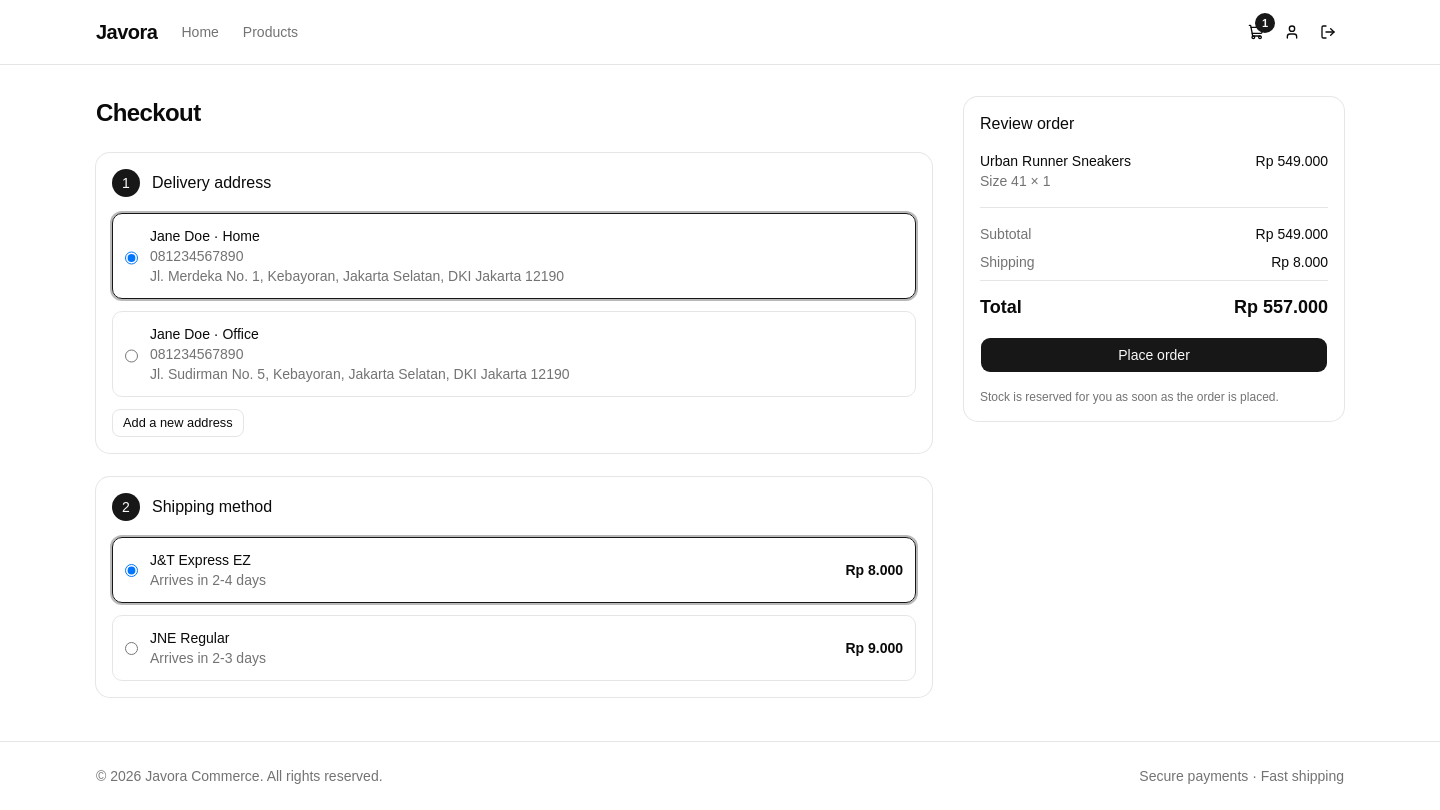
checkout › uses the default address and cheapest shipping, then places the order
Expected: the heading "Checkout" is shown, [96,99,201,126]
Expected: the radio button labelled "Jane Doe · Home" is checked, [125,230,138,286]
Click the button "Place order": click(1154, 355) [980,337,1328,373]
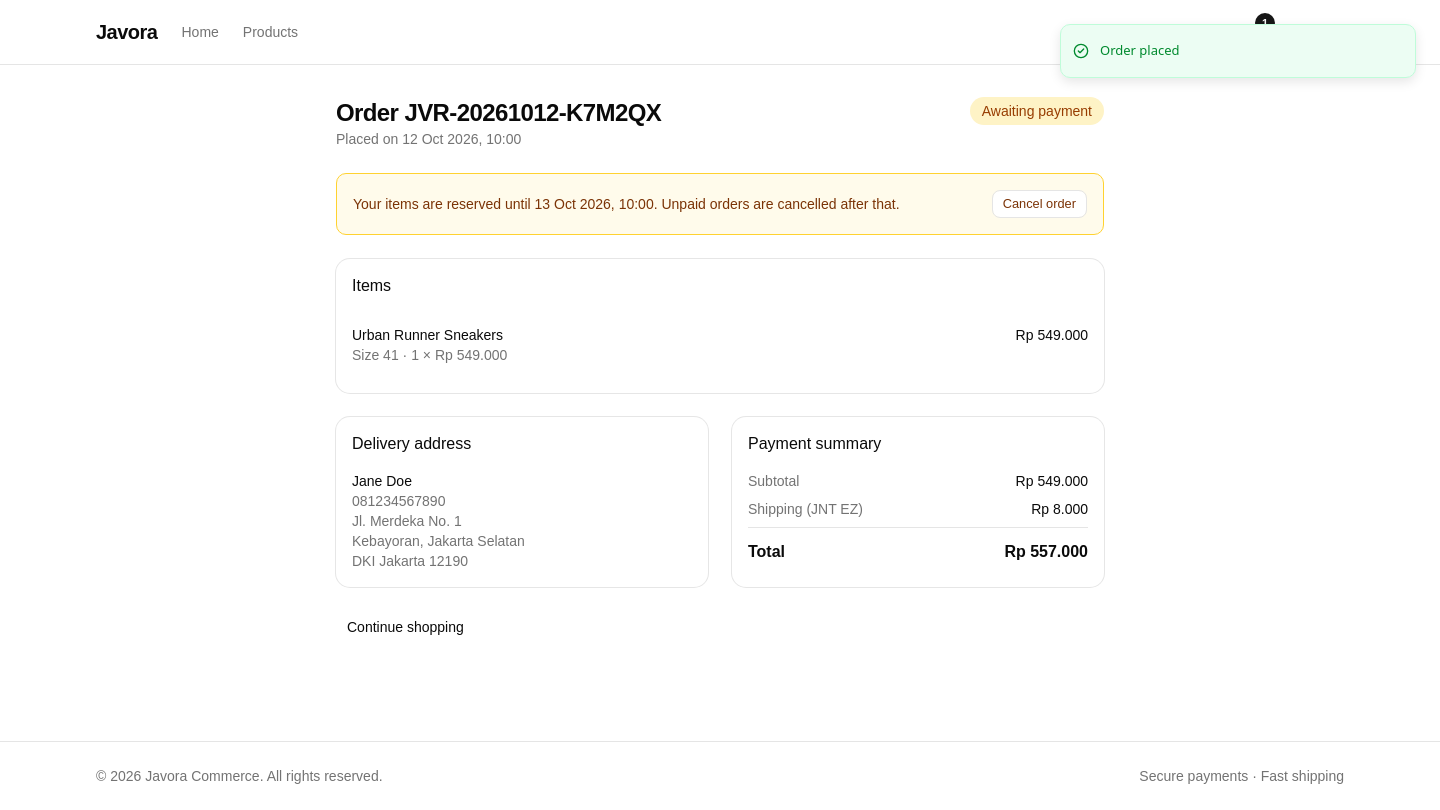
Result: the heading "Order JVR-20261012-K7M2QX" is shown at [336,97,661,129]
